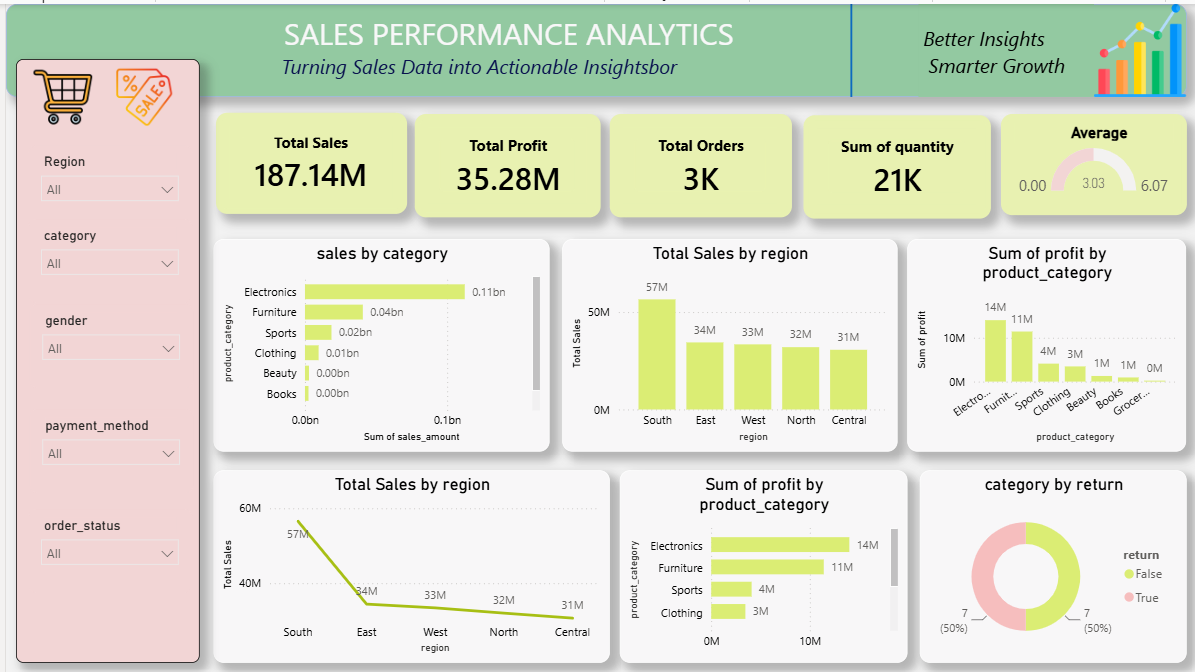

The dashboard page shown, as its layout file describes it:
{"tool":"powerbi","page":{"name":"over view","canvas":[1280,720],"ordinal":0},"visuals":[{"type":"textbox","box":[0,0,1270,100],"z":0},{"type":"shape","box":[891.4,0,35.7,100],"z":1000},{"type":"cardVisual","fields":{"Data":["Sum(sales cleaned csv.sales_amount)"]},"box":[225.7,117.1,205.7,108.6],"z":2000},{"type":"cardVisual","fields":{"Data":["Sum(sales cleaned csv.profit)"]},"box":[440,118.6,200,111.4],"z":3000},{"type":"cardVisual","fields":{"Data":["sales cleaned csv.Total Orders"]},"box":[650,118.6,195.7,111.4],"z":4000},{"type":"cardVisual","fields":{"Data":["Sum(sales cleaned csv.quantity)"]},"box":[858.6,120,201.4,111.4],"z":5000},{"type":"gauge","title":"Average","fields":{"Y":["Avg(sales cleaned csv.customer_satisfaction)"]},"box":[1070.3,118,200.3,108.4],"z":6000},{"type":"barChart","title":" sales by category","fields":{"Category":["sales cleaned csv.product_category"],"Y":["Sum(sales cleaned csv.sales_amount)"]},"box":[222.9,252.9,361.4,228.6],"z":7000},{"type":"columnChart","fields":{"Category":["sales cleaned csv.region"],"Y":["sales cleaned csv.Total Sales"]},"box":[598.4,252.8,360.4,228.6],"z":8000},{"type":"lineChart","fields":{"Y":["sales cleaned csv.Total Sales"],"Category":["sales cleaned csv.region"]},"box":[223.2,501.6,426.3,207.1],"z":9000},{"type":"barChart","fields":{"Category":["sales cleaned csv.product_category"],"Y":["Sum(sales cleaned csv.profit)"]},"box":[660.3,501.6,309.3,207.1],"z":10000},{"type":"columnChart","fields":{"Y":["Sum(sales cleaned csv.profit)"],"Category":["sales cleaned csv.product_category"]},"box":[969.6,252.8,299.9,228.6],"z":11000},{"type":"textbox","box":[10.8,59.2,197.7,649.6],"z":12000},{"type":"slicer","fields":{"Values":["sales cleaned csv.region"]},"box":[24.3,151.4,175.7,90],"z":13000},{"type":"slicer","fields":{"Values":["sales cleaned csv.product_category"]},"box":[24.3,231.4,175.7,90],"z":14000},{"type":"slicer","fields":{"Values":["sales cleaned csv.gender"]},"box":[25.7,322.9,175.7,90],"z":15000},{"type":"slicer","fields":{"Values":["sales cleaned csv.payment_method"]},"box":[25.7,435.7,175.7,90],"z":16000},{"type":"slicer","fields":{"Values":["sales cleaned csv.order_status"]},"box":[24.3,542.9,175.7,90],"z":17000},{"type":"donutChart","title":"category by return","fields":{"Category":["sales cleaned csv.return_flag"],"Y":["Count(sales cleaned csv.product_category)"]},"box":[982.9,501.4,287.1,207.1],"z":18000},{"type":"image","box":[25.7,68.6,71.4,62.9],"z":19000},{"type":"image","box":[114.3,68.6,68.6,62.9],"z":20000},{"type":"image","box":[1170,0,100,100],"z":21000},{"type":"textbox","box":[981.4,0,188.6,100],"z":22000}]}

Visuals, with their boxes in screenshot pixels (x1, y1, x2, y2), scaled from the page's 1280x720 canvas onto the 1195x672 screenshot:
textbox: 0 0 1186 93
shape: 832 0 866 93
cardVisual - Sum(sales cleaned csv.sales_amount): 211 109 403 211
cardVisual - Sum(sales cleaned csv.profit): 411 111 598 215
cardVisual - sales cleaned csv.Total Orders: 607 111 790 215
cardVisual - Sum(sales cleaned csv.quantity): 802 112 990 216
"Average" gauge: 999 110 1186 211
" sales by category" barChart: 208 236 545 449
columnChart - sales cleaned csv.region x sales cleaned csv.Total Sales: 559 236 895 449
lineChart - sales cleaned csv.Total Sales x sales cleaned csv.region: 208 468 606 661
barChart - sales cleaned csv.product_category x Sum(sales cleaned csv.profit): 616 468 905 661
columnChart - Sum(sales cleaned csv.profit) x sales cleaned csv.product_category: 905 236 1185 449
textbox: 10 55 195 662
slicer - sales cleaned csv.region: 23 141 187 225
slicer - sales cleaned csv.product_category: 23 216 187 300
slicer - sales cleaned csv.gender: 24 301 188 385
slicer - sales cleaned csv.payment_method: 24 407 188 491
slicer - sales cleaned csv.order_status: 23 507 187 591
"category by return" donutChart: 918 468 1186 661
image: 24 64 91 123
image: 107 64 171 123
image: 1092 0 1186 93
textbox: 916 0 1092 93
